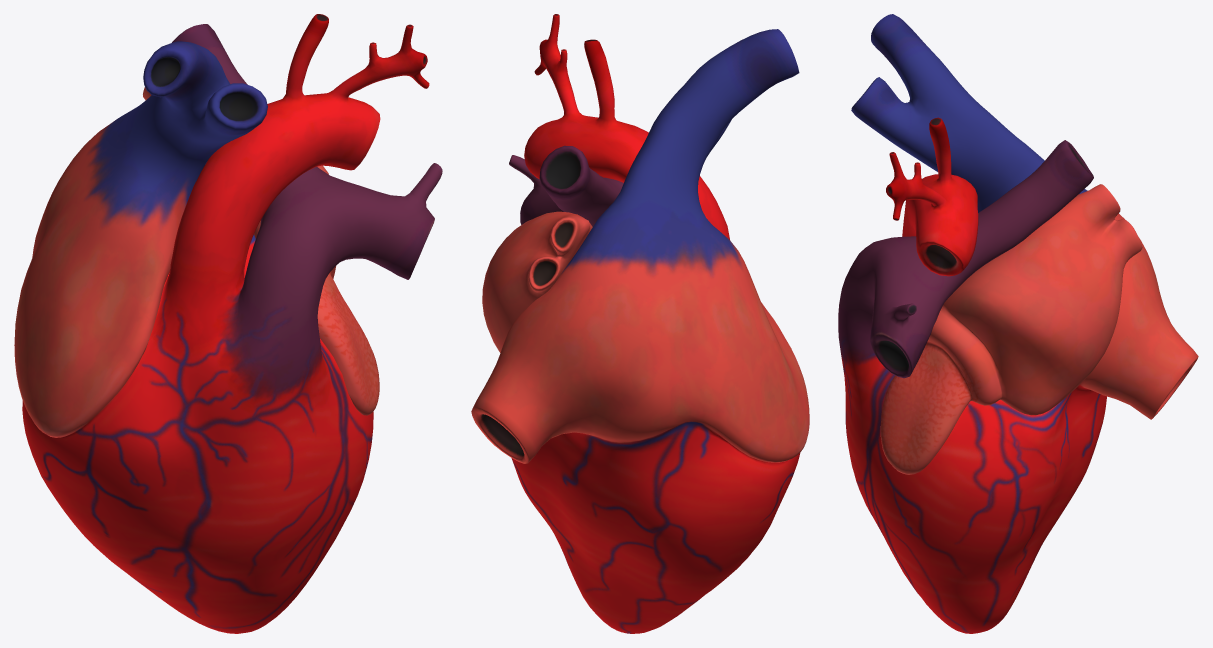
File: heart.fbx
3 views of the same model, side by side, from view 1: azimuth 30°, elevation 25°; view 2: azimuth 150°, elevation 25°; view 3: azimuth 270°, elevation 25° (orthographic). The views are drawn at different scales.
Parts seen in each view (by area): view 1: node_id761; view 2: node_id761; view 3: node_id761.
Part boxes in pixels (bbox=[...]): node_id761: bbox=[14, 14, 442, 633]; node_id761: bbox=[471, 14, 809, 633]; node_id761: bbox=[838, 14, 1198, 633].
Bounding box in the file's own units: 0.2975 × 0.512 × 0.2956.
1 material, 1 textured.
